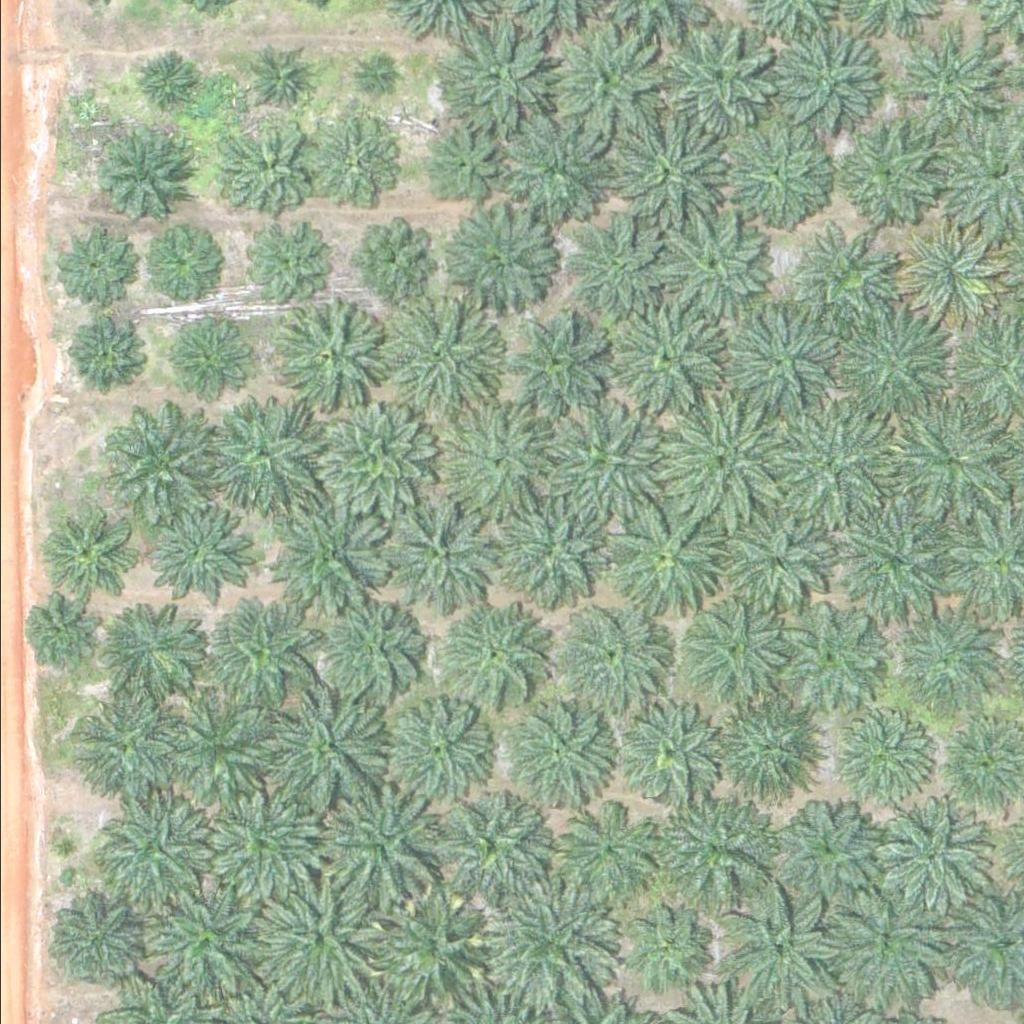Kelapa_Sawit: (251, 882, 377, 1007), (375, 881, 501, 1006), (489, 881, 615, 1006), (416, 784, 542, 909), (819, 875, 945, 1000), (723, 885, 849, 1010), (884, 397, 1010, 522), (765, 403, 891, 528), (663, 397, 788, 522), (62, 691, 175, 804), (165, 693, 278, 806), (277, 697, 390, 810), (556, 596, 669, 709), (211, 595, 324, 708), (606, 505, 719, 618), (501, 495, 614, 608), (383, 492, 496, 605), (109, 405, 222, 518), (277, 295, 390, 408), (437, 198, 550, 311), (609, 116, 722, 229), (508, 102, 621, 215), (875, 797, 988, 910), (679, 591, 792, 704), (720, 505, 833, 618), (839, 507, 952, 620), (890, 216, 1003, 329), (657, 213, 770, 326), (832, 114, 945, 227), (447, 16, 561, 128), (664, 786, 778, 898), (713, 691, 827, 803), (777, 597, 891, 709), (140, 884, 253, 996), (324, 791, 437, 903), (209, 790, 322, 902), (94, 793, 207, 905), (393, 698, 506, 810), (506, 694, 619, 806), (279, 501, 392, 613), (133, 497, 246, 609), (552, 404, 665, 516), (443, 402, 556, 514), (324, 400, 437, 512), (209, 396, 322, 508), (387, 298, 500, 410), (550, 27, 663, 139), (837, 303, 950, 415), (726, 303, 839, 415), (614, 302, 727, 414), (892, 26, 1005, 138), (660, 22, 773, 134), (51, 898, 152, 998), (449, 609, 550, 709), (325, 600, 426, 700), (103, 601, 204, 701), (502, 312, 603, 412), (90, 121, 191, 221), (724, 124, 825, 224), (779, 31, 880, 131), (561, 800, 661, 900), (620, 703, 720, 803), (780, 805, 880, 905), (829, 706, 929, 806), (897, 611, 997, 711), (46, 505, 134, 593), (312, 116, 400, 204), (218, 124, 306, 212), (799, 234, 888, 321), (165, 310, 253, 397), (568, 221, 656, 308), (354, 224, 430, 299), (635, 907, 711, 982), (61, 318, 137, 393), (239, 226, 315, 301), (57, 229, 133, 304), (421, 122, 497, 197), (147, 226, 210, 289), (129, 50, 192, 113), (30, 600, 93, 663), (257, 53, 307, 103), (358, 61, 396, 99)
